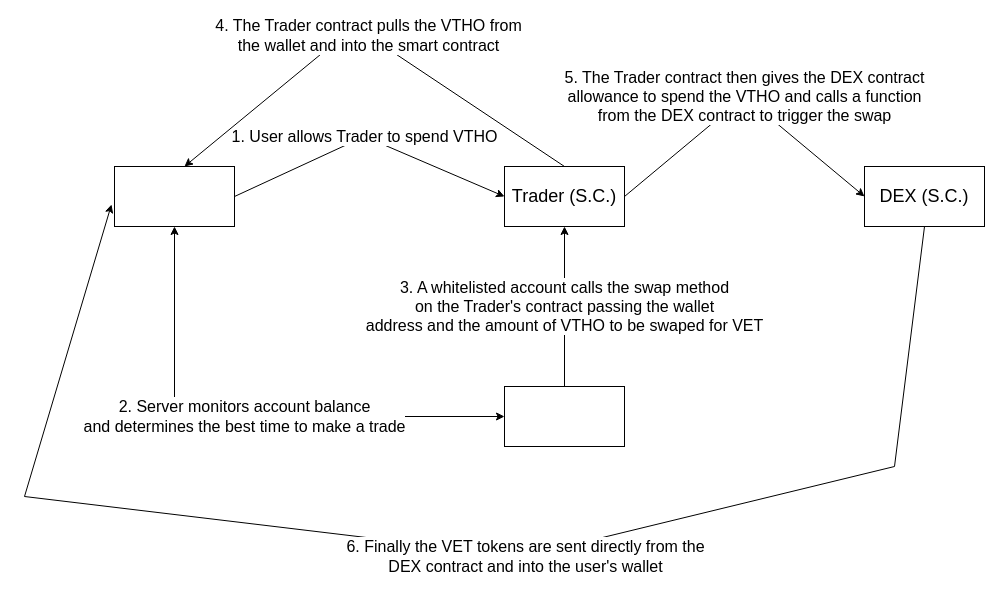
Image size: 1002x593. Some labels were removed from this diagram. The box of each missing label's shape, as (x1, y1, x2, y2) in pixels:
Server: (504, 386, 624, 446)
Wallet: (114, 166, 234, 226)
